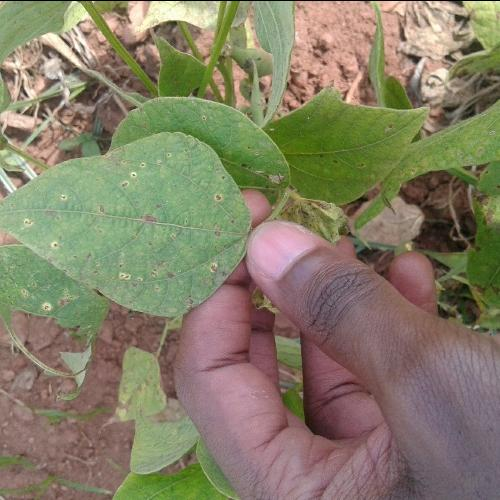hawar: (101, 134, 182, 200), (105, 248, 230, 290), (20, 174, 74, 260), (205, 169, 243, 209)
